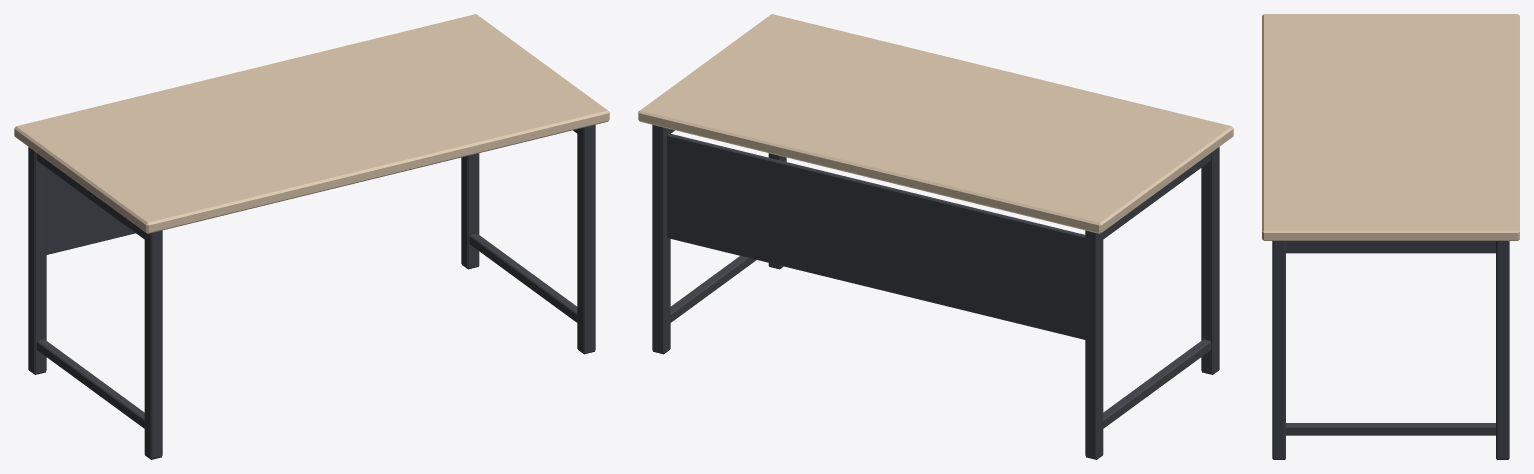
The model's file is mesa_estacao.obj.
The picture shows the model from 3 angles, left to right: view 1: azimuth 30°, elevation 25°; view 2: azimuth 150°, elevation 25°; view 3: azimuth 270°, elevation 25°; orthographic projection. The views are drawn at different scales.
Visible parts, largest first — view 1: mesa_estacao; view 2: mesa_estacao; view 3: mesa_estacao.
Boxes of the visible parts, bbox=[...] form: mesa_estacao: bbox=[14, 14, 609, 459]; mesa_estacao: bbox=[638, 14, 1233, 459]; mesa_estacao: bbox=[1262, 14, 1519, 459].
Bounding box in the file's own units: 1.5 × 0.75 × 0.75.
